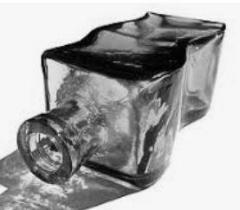glass: (15, 10, 226, 192)
